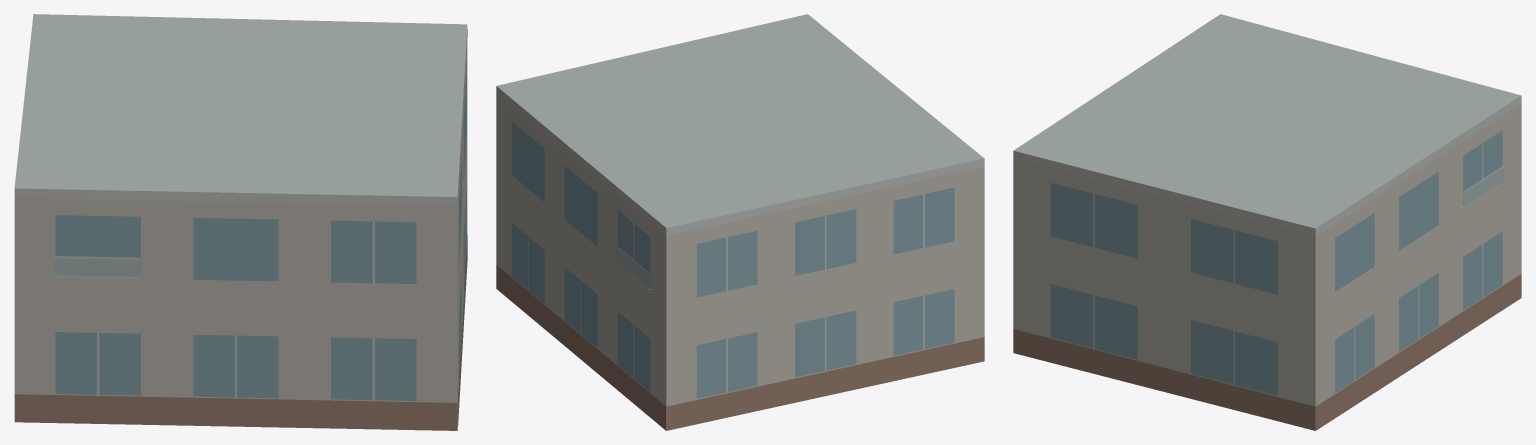
Rendered from survey-upis-32669232.glb.
The picture shows the model from 3 angles, left to right: view 1: azimuth 30°, elevation 25°; view 2: azimuth 150°, elevation 25°; view 3: azimuth 270°, elevation 25°; orthographic projection. The views are drawn at different scales.
Parts seen in each view (by area): view 1: survey-upis-32669232.tmp; view 2: survey-upis-32669232.tmp; view 3: survey-upis-32669232.tmp.
Boxes of the visible parts, bbox=[...] form: survey-upis-32669232.tmp: bbox=[14, 14, 467, 430]; survey-upis-32669232.tmp: bbox=[496, 14, 984, 430]; survey-upis-32669232.tmp: bbox=[1013, 14, 1521, 430].
Size of the model in its own units: 13.88 by 6.1 by 13.9.
